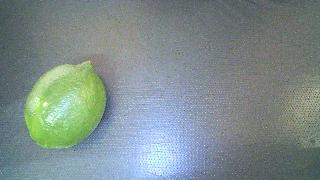EXPORTACION: (24, 62, 106, 149)
